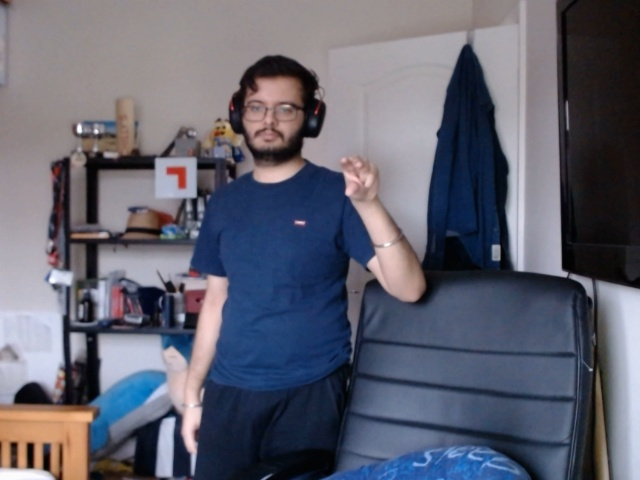No: (333, 143, 393, 211)
